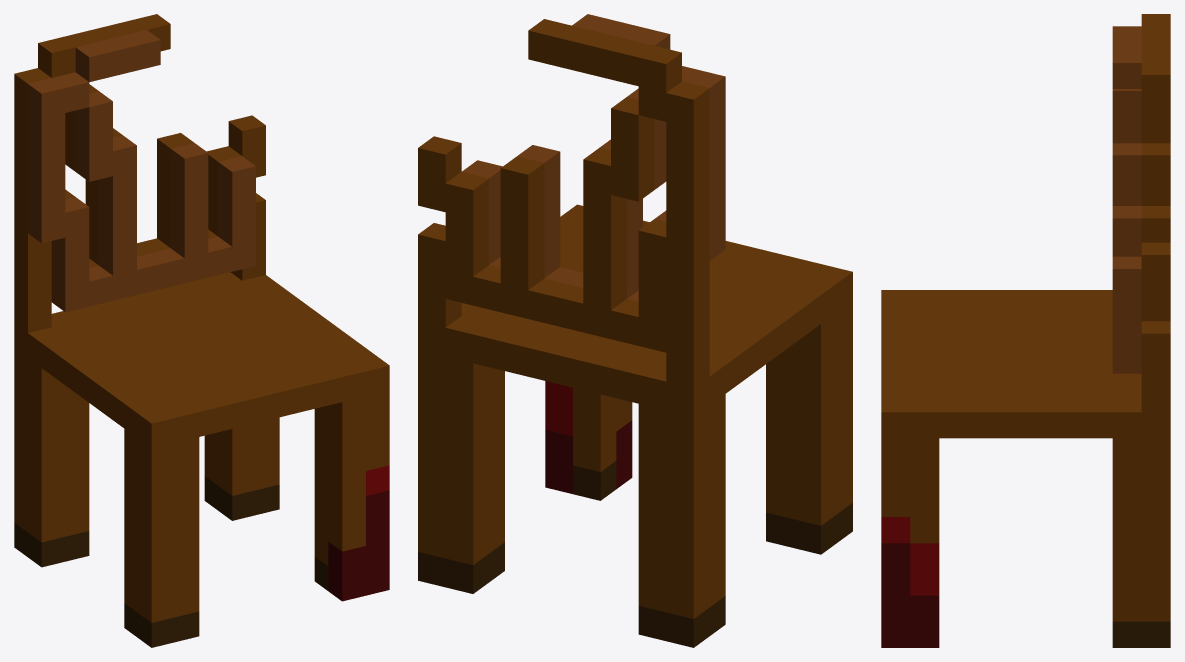
The model's file is Chaise2(marron)(cassé).obj.
The picture shows the model from 3 angles, left to right: view 1: azimuth 30°, elevation 25°; view 2: azimuth 150°, elevation 25°; view 3: azimuth 270°, elevation 25°; orthographic projection. The views are drawn at different scales.
Bounding box in the file's own units: 1 × 2 × 1.
1 material, 1 textured.
